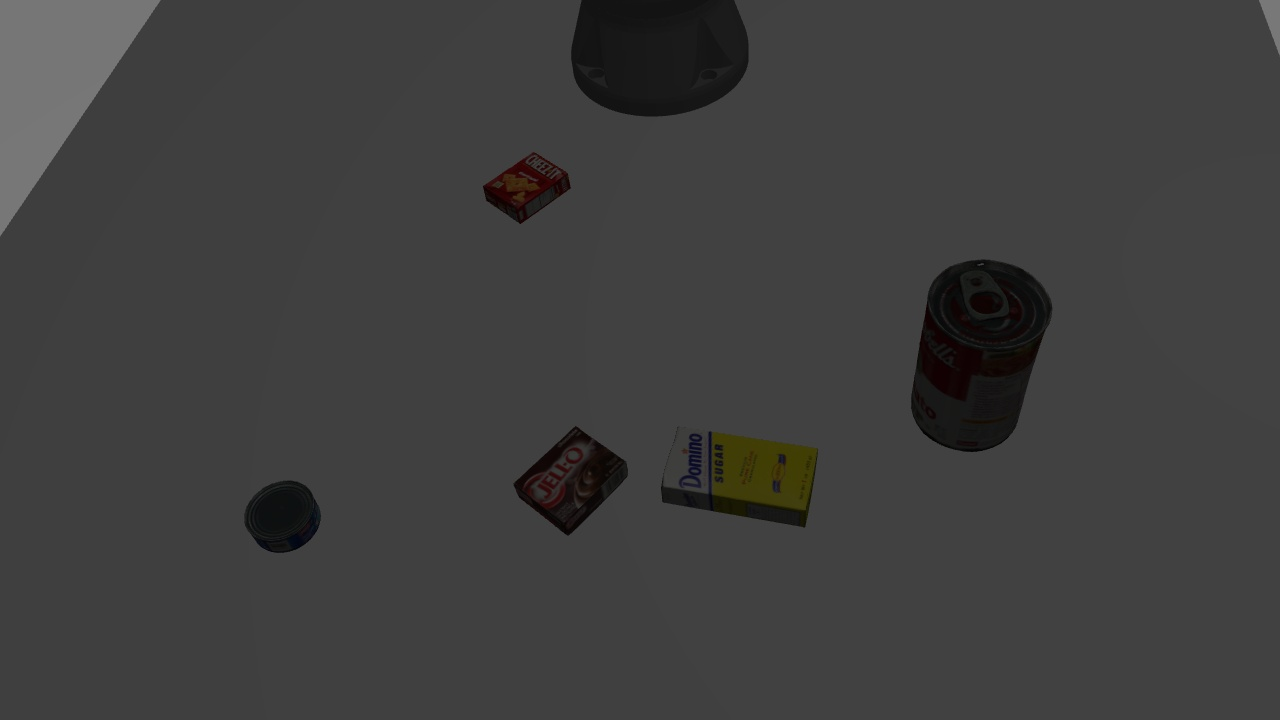cracker_box: (483, 146, 573, 222)
pudding_box: (513, 424, 632, 534)
sugar_box: (658, 417, 823, 534)
tomato_soup_can: (903, 255, 1047, 462)
tuna_fish_can: (243, 483, 328, 552)
